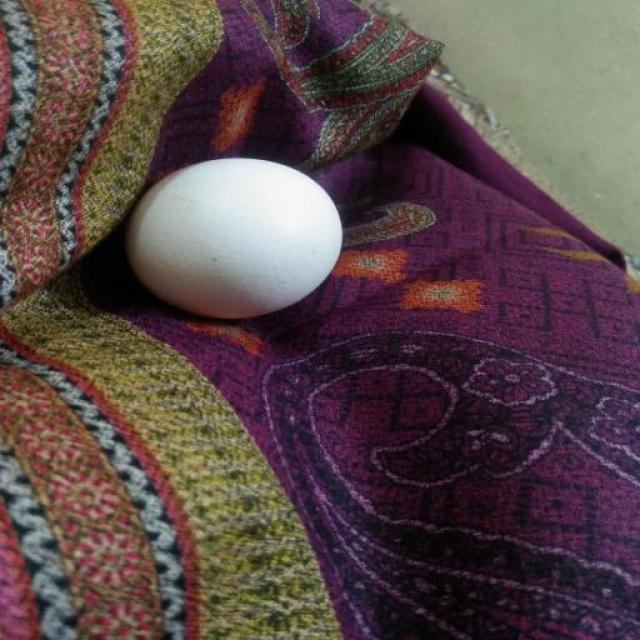telur: (130, 155, 341, 318)
